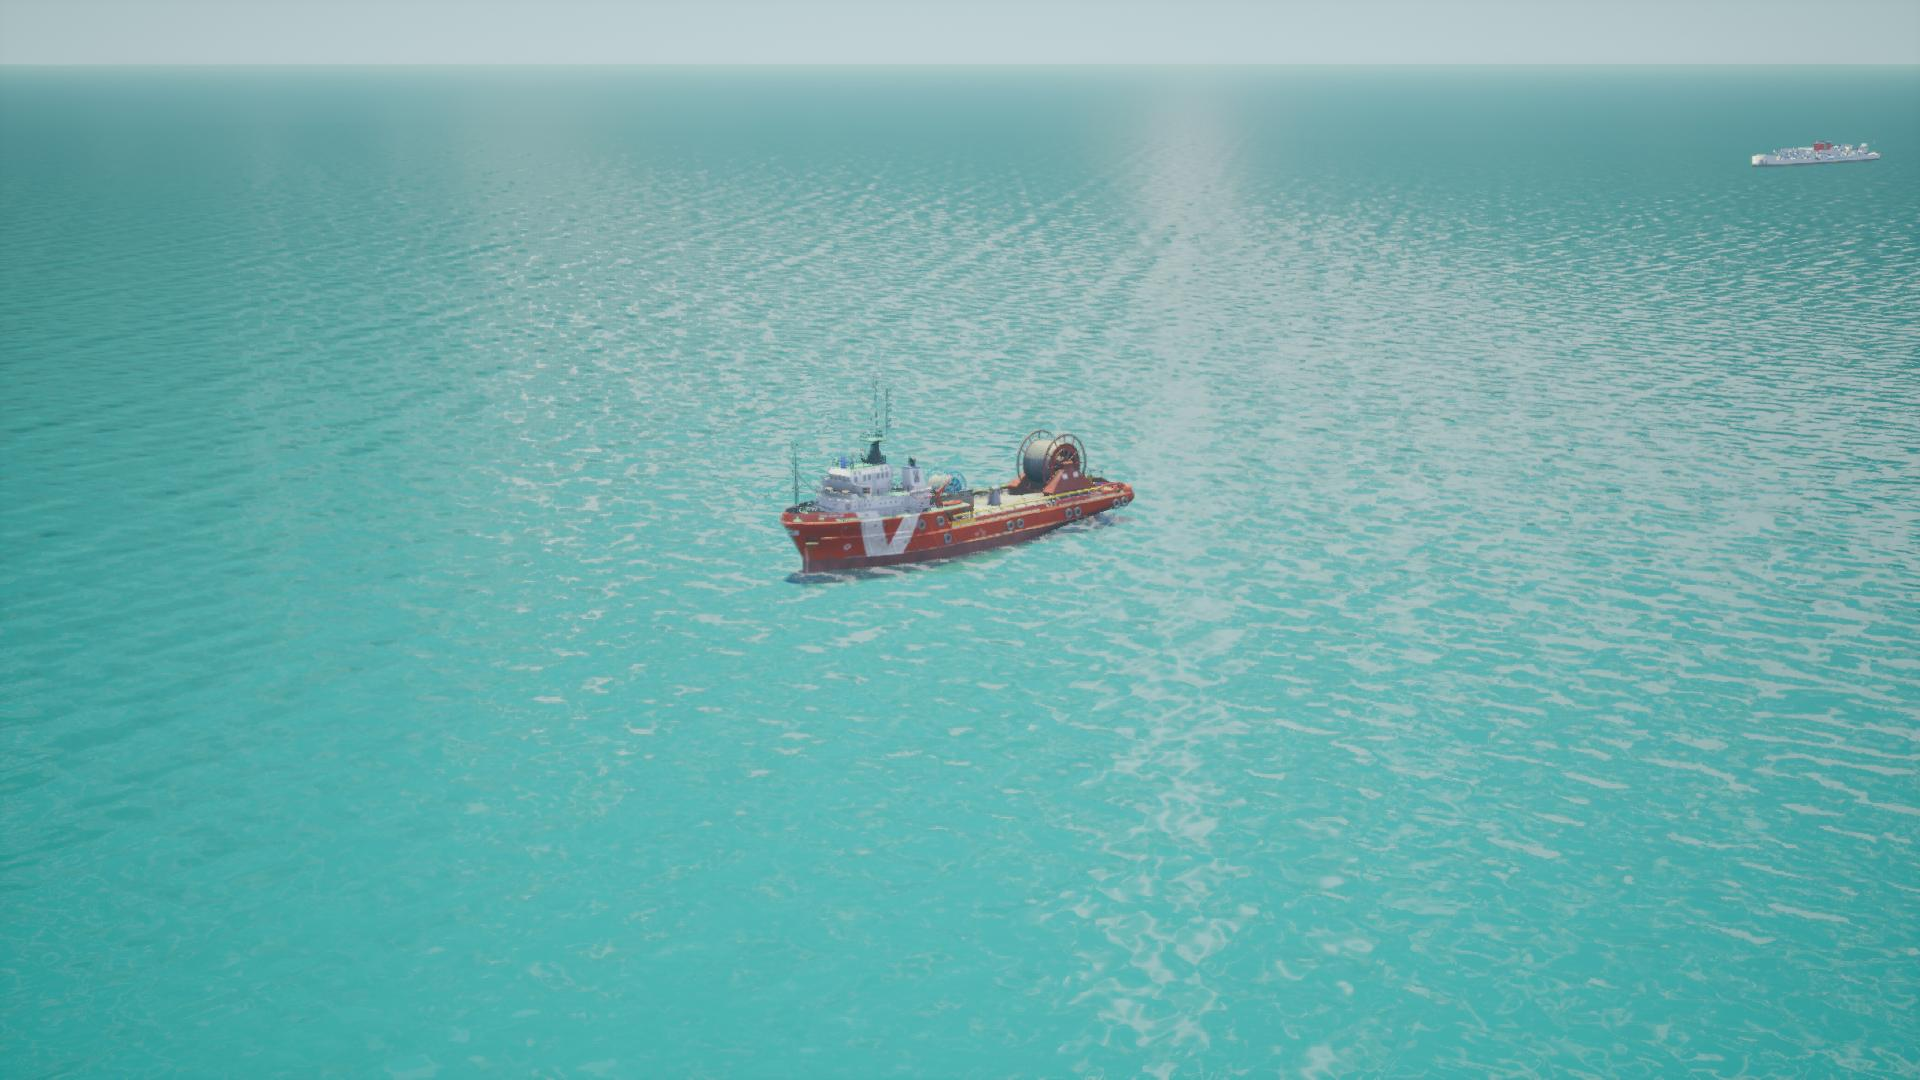Tug Boat: (778, 431, 1134, 580)
